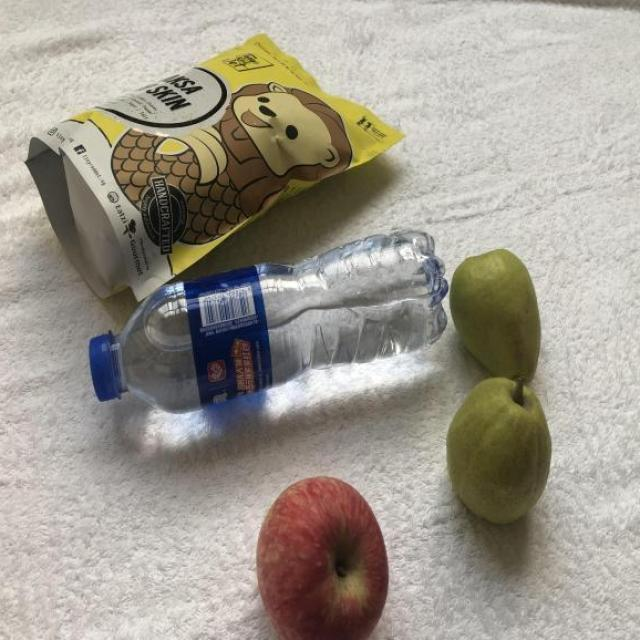Apple: (249, 471, 400, 640)
